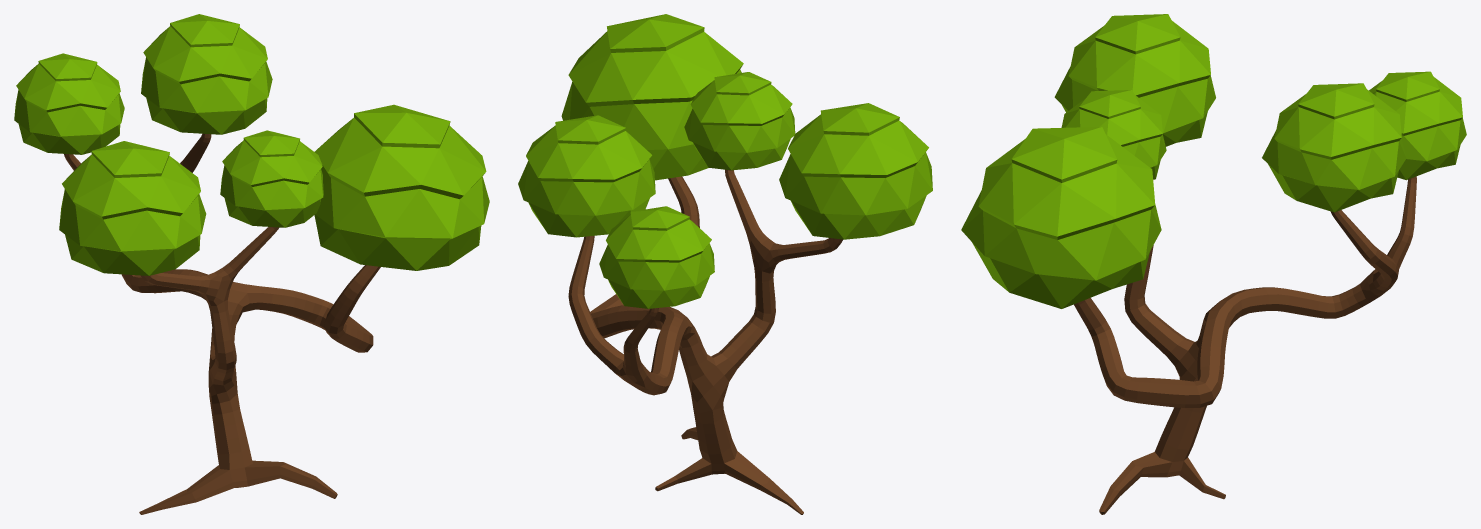
File: Tree004.fbx
3 renders of one model, left to right at view 1: azimuth 30°, elevation 25°; view 2: azimuth 150°, elevation 25°; view 3: azimuth 270°, elevation 25°, orthographic. The views are drawn at different scales.
Visible parts, largest first — view 1: Icosphere.004, TreeStem003; view 2: Icosphere.004, TreeStem003; view 3: Icosphere.004, TreeStem003.
Boxes of the visible parts, x1,y1,x2,y2 form: Icosphere.004: [14, 14, 489, 275]; TreeStem003: [64, 133, 380, 514]; Icosphere.004: [518, 14, 932, 308]; TreeStem003: [568, 169, 842, 514]; Icosphere.004: [961, 14, 1466, 308]; TreeStem003: [1074, 176, 1416, 514].
Bounding box in the file's own units: 524 × 543 × 586.
